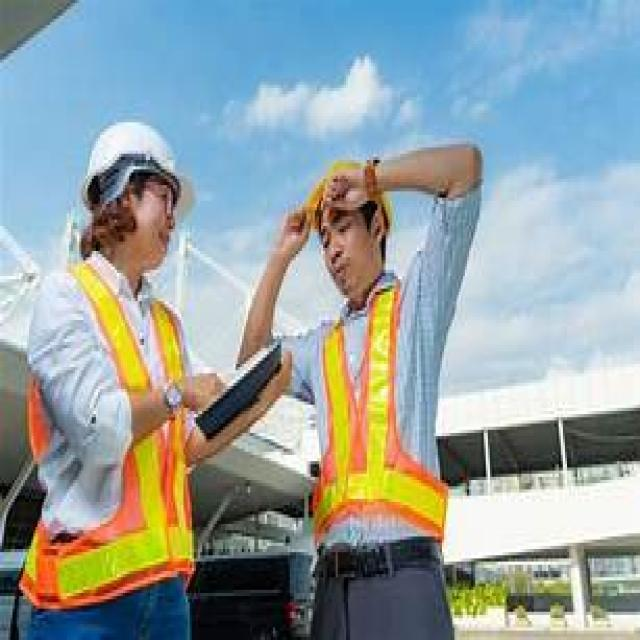not-gloved: (321, 144, 379, 220), (276, 194, 314, 266), (173, 367, 226, 412)
